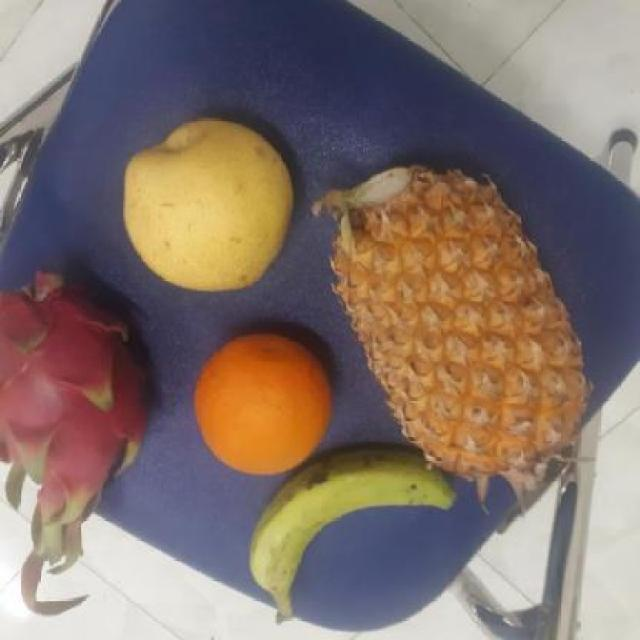banana: (251, 452, 463, 614)
dragon fruit: (0, 258, 155, 509)
oren: (187, 328, 341, 474)
pear: (115, 112, 303, 288)
pineapple: (322, 170, 596, 472)
